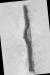V24: (1, 0, 50, 74)
